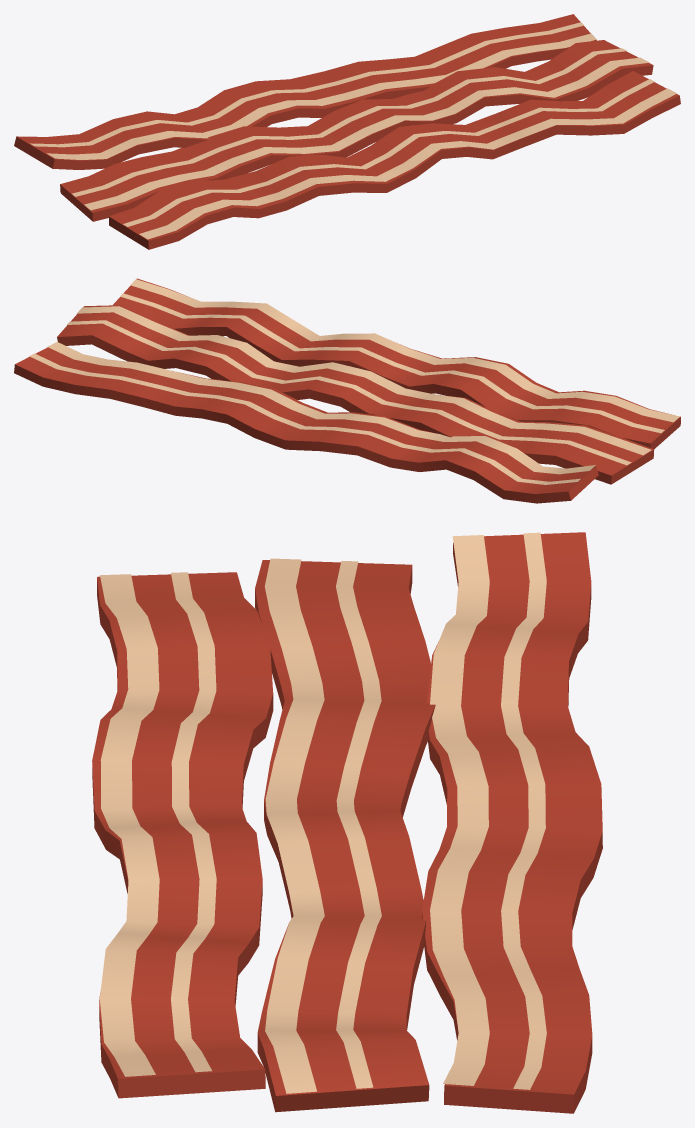
Rendered from Food_Bacon.fbx.
3 renders of one model, top to bottom at view 1: azimuth 30°, elevation 25°; view 2: azimuth 150°, elevation 25°; view 3: azimuth 270°, elevation 25°, orthographic. The views are drawn at different scales.
Visible parts, largest first — view 1: Meat, Fat; view 2: Meat, Fat; view 3: Meat, Fat.
Part boxes in pixels (x1,y1,x2,y2): Meat: (14, 14, 680, 249); Fat: (30, 22, 676, 239); Meat: (14, 278, 680, 503); Fat: (29, 279, 679, 484); Meat: (92, 532, 602, 1113); Fat: (99, 532, 546, 1093).
Size of the model in its own units: 225 by 10.81 by 88.22.
